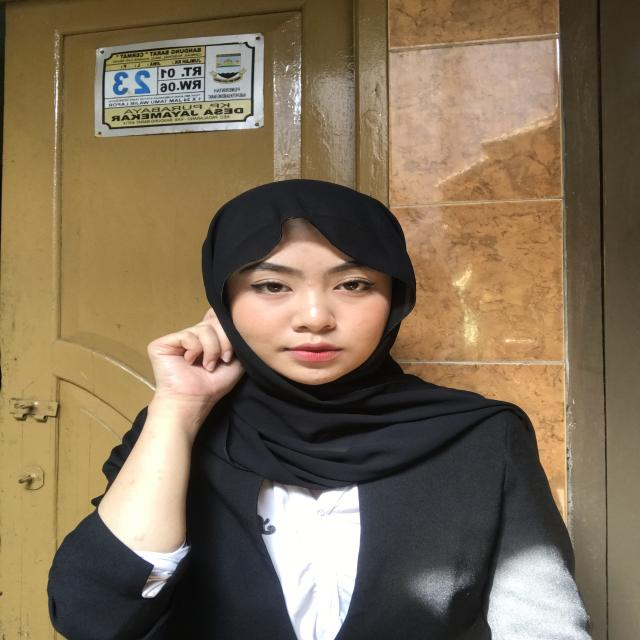ibu: (138, 306, 281, 444)
